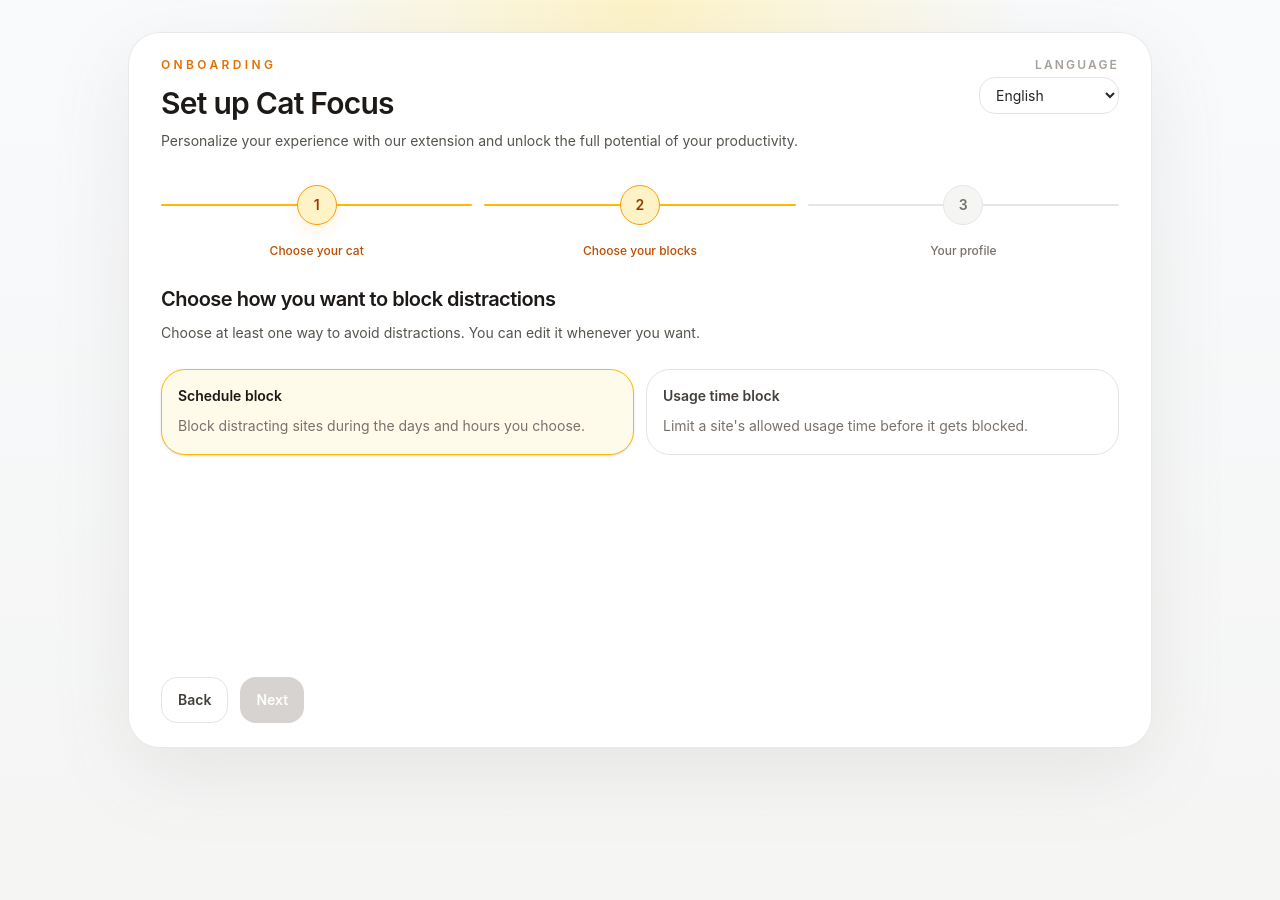
it: onboarding flow › allows returning to step two from step one after step one is already completed
The width and height of the screenshot is (1280, 900).
Click the button named "Choose your cat" at (317, 205), box [297,185,337,225]
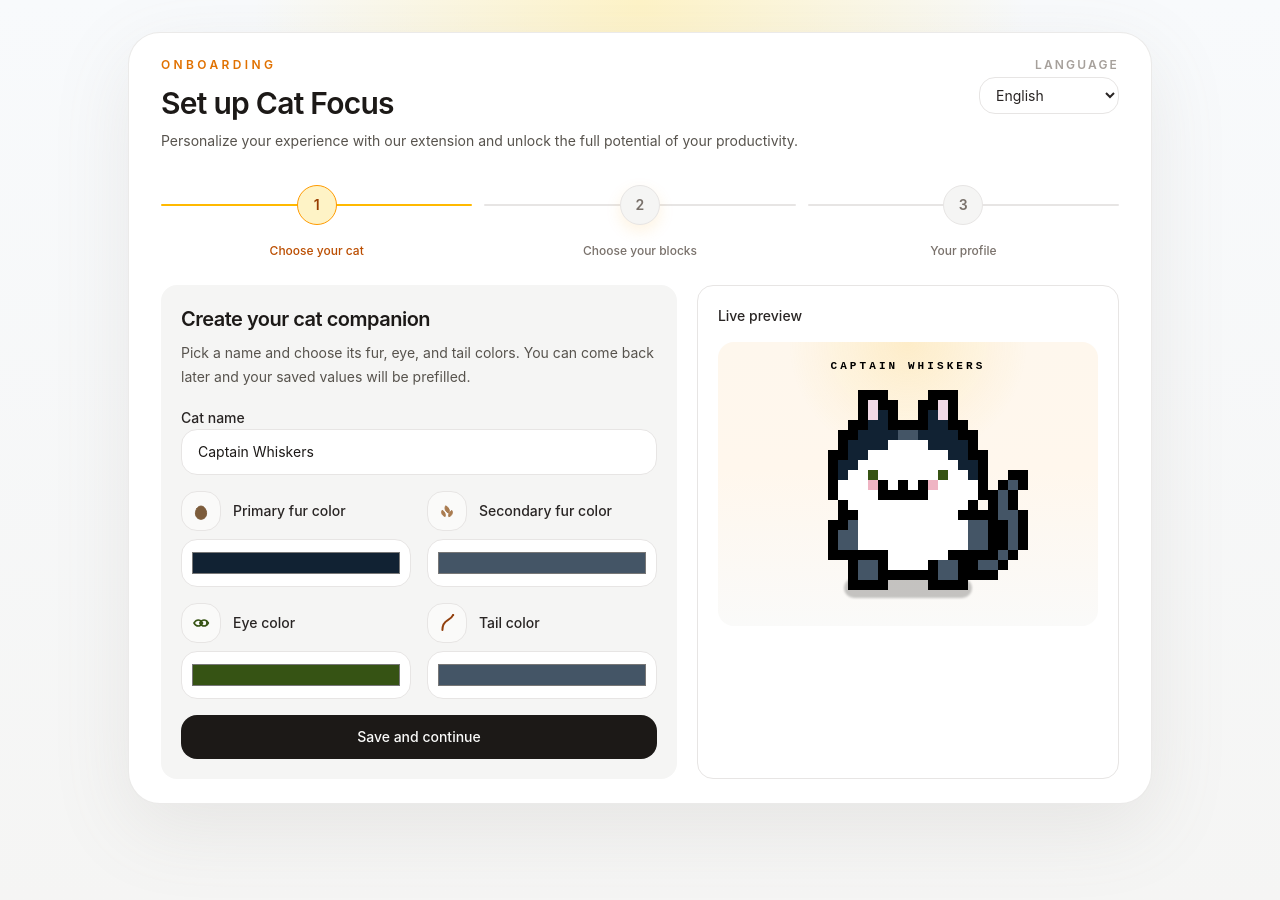
Expected: the button "Save and continue" is shown, [181,715,657,759]
Click the button named "Choose your blocks" at (640, 205), box [620,185,660,225]
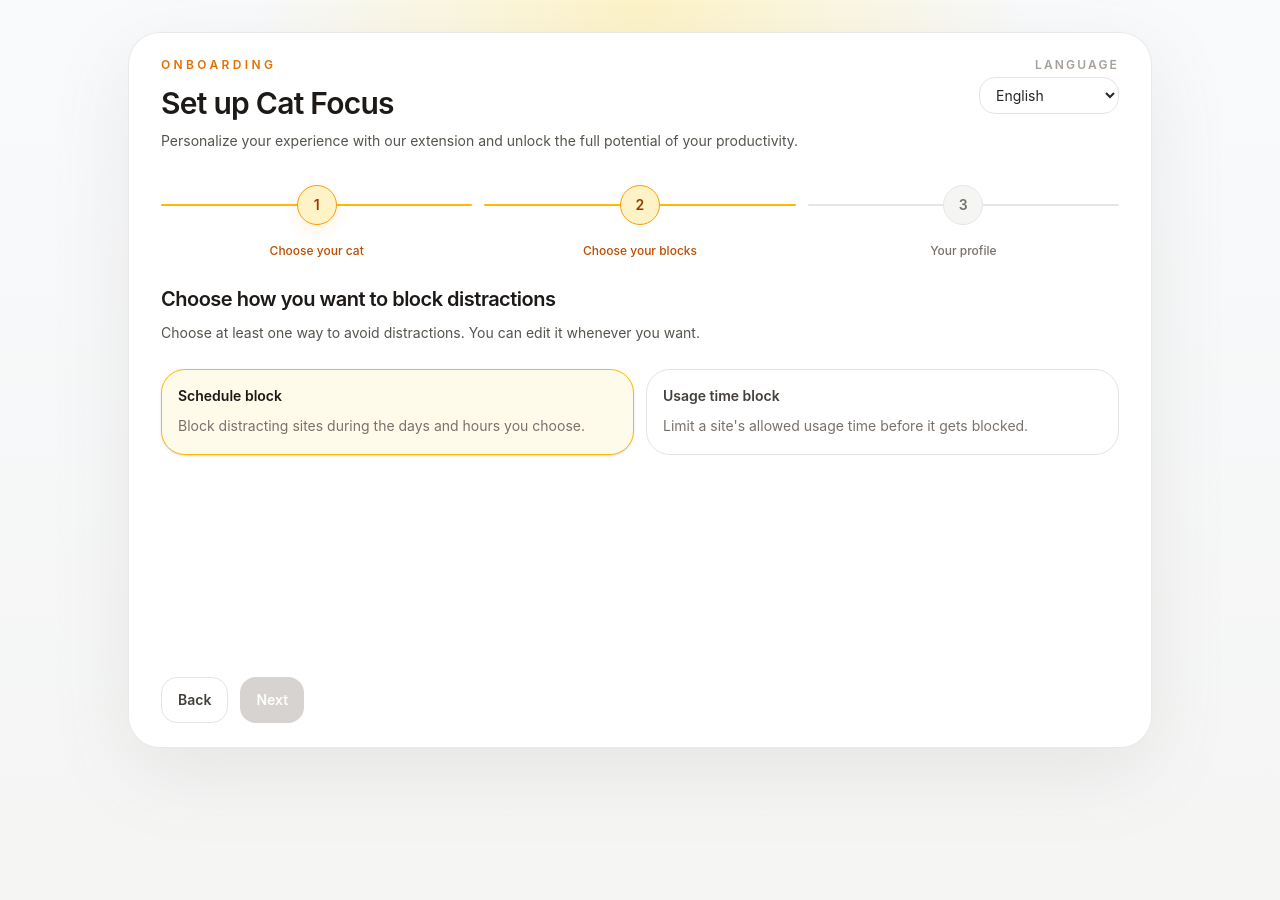
Expected: the heading "Choose how you want to block distractions" is shown, [161,287,556,311]
